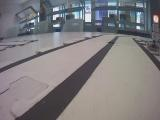tl_red: (152, 14, 160, 41)
